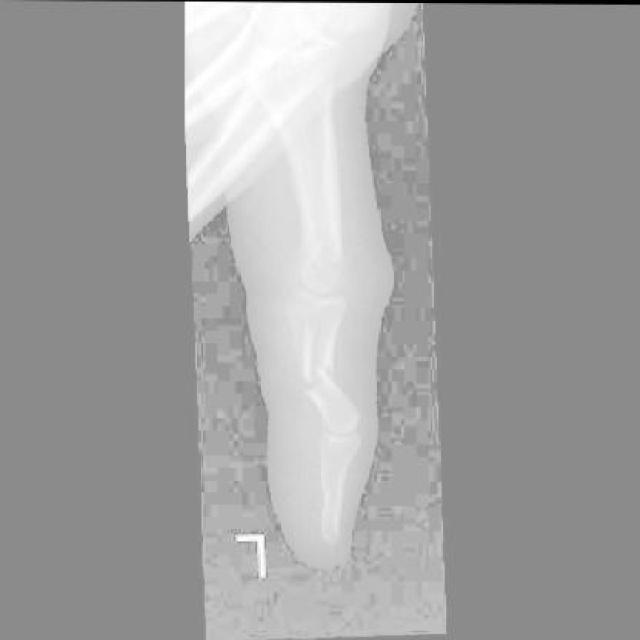Fracture: (294, 323, 340, 400)
